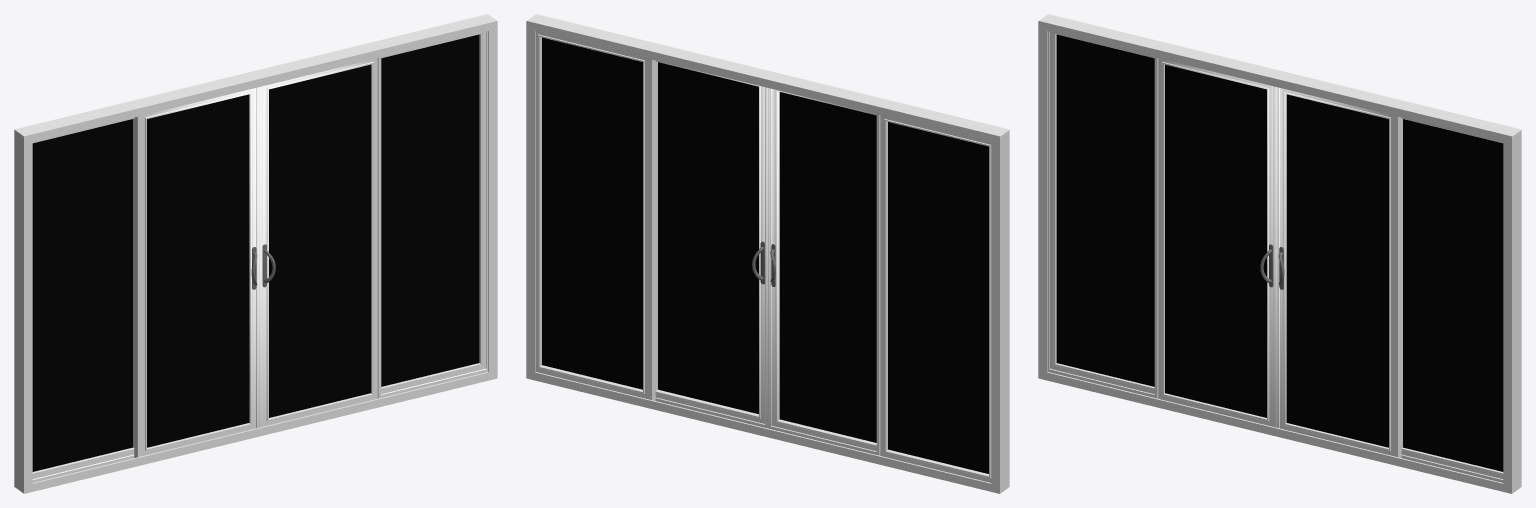
The model's file is SlidingDoor.fbx.
3 views of the same model, side by side, from view 1: azimuth 30°, elevation 25°; view 2: azimuth 150°, elevation 25°; view 3: azimuth 330°, elevation 25° (orthographic).
Parts seen in each view (by area): view 1: SlidingDoor_Frame, SlidingDoor_01, SlidingDoor_02; view 2: SlidingDoor_Frame, SlidingDoor_02, SlidingDoor_01; view 3: SlidingDoor_Frame, SlidingDoor_02, SlidingDoor_01.
Boxes of the visible parts, x1,y1,x2,y2 form: SlidingDoor_Frame: (14, 14, 497, 493); SlidingDoor_01: (134, 87, 259, 457); SlidingDoor_02: (259, 57, 381, 427); SlidingDoor_Frame: (526, 14, 1009, 493); SlidingDoor_02: (655, 60, 767, 428); SlidingDoor_01: (768, 88, 876, 454); SlidingDoor_Frame: (1038, 14, 1521, 493); SlidingDoor_02: (1276, 87, 1401, 457); SlidingDoor_01: (1154, 57, 1276, 427).
Size of the model in its own units: 2.96 by 2.13 by 0.1449.
